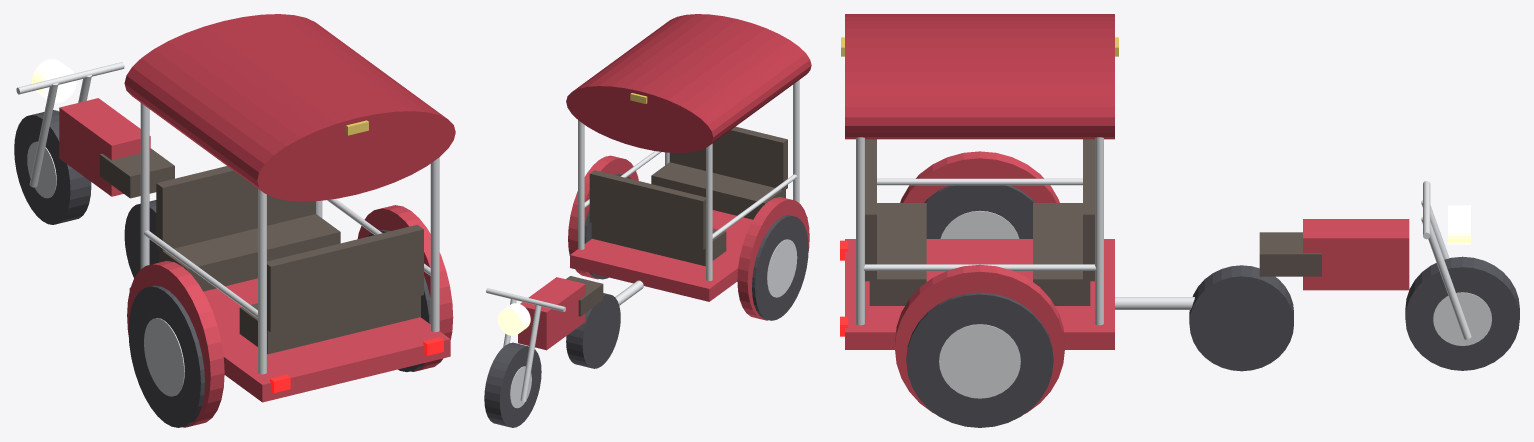
File: tuk-tuk.glb
The picture shows the model from 3 angles, left to right: view 1: azimuth 30°, elevation 25°; view 2: azimuth 150°, elevation 25°; view 3: azimuth 270°, elevation 25°; orthographic projection. The views are drawn at different scales.
Parts seen in each view (by area): view 1: Cylinder.015, Cube.006, Cube.002, Cube.004, LeftWheel, Cube.003, Cube, Cylinder.008, FrontWheel, Cube.005, Cylinder.010, Cylinder.007 (+12 smaller); view 2: Cylinder.015, Cube.002, Cube.004, Cube.006, Cube.005, LeftWheel, FrontWheel, Cube, Cylinder.005, Cylinder.008, Cube.003, Cylinder.010 (+10 smaller); view 3: Cylinder.015, RightWheel, Cube.002, Cylinder.005, FrontWheel, Cube, Cylinder.010, Cylinder.009, Cube.003, Cube.005, LeftWheel, Cylinder.008 (+12 smaller).
Boxes of the visible parts, x1=… form: Cylinder.015: x1=124, y1=14, x2=455, y2=201; Cube.006: x1=267, y1=224, x2=423, y2=332; Cube.002: x1=129, y1=278, x2=450, y2=402; Cube.004: x1=156, y1=166, x2=315, y2=252; LeftWheel: x1=128, y1=285, x2=204, y2=427; Cube.003: x1=159, y1=214, x2=340, y2=291; Cube: x1=59, y1=98, x2=150, y2=196; Cylinder.008: x1=127, y1=261, x2=224, y2=427; FrontWheel: x1=14, y1=110, x2=91, y2=224; Cube.005: x1=239, y1=296, x2=420, y2=354; Cylinder.010: x1=357, y1=205, x2=453, y2=371; Cylinder.007: x1=144, y1=318, x2=184, y2=396; Cylinder.015: x1=566, y1=14, x2=811, y2=152; Cube.002: x1=570, y1=210, x2=807, y2=301; Cube.004: x1=589, y1=170, x2=705, y2=249; Cube.006: x1=669, y1=126, x2=787, y2=189; Cube.005: x1=651, y1=162, x2=785, y2=219; LeftWheel: x1=752, y1=215, x2=808, y2=320; FrontWheel: x1=484, y1=342, x2=541, y2=427; Cube: x1=518, y1=277, x2=585, y2=350; Cylinder.005: x1=566, y1=293, x2=620, y2=368; Cylinder.008: x1=737, y1=197, x2=809, y2=320; Cube.003: x1=591, y1=223, x2=726, y2=266; Cylinder.010: x1=568, y1=155, x2=638, y2=279; Cylinder.015: x1=845, y1=14, x2=1114, y2=139; RightWheel: x1=906, y1=292, x2=1053, y2=427; Cube.002: x1=845, y1=239, x2=1114, y2=349; Cylinder.005: x1=1189, y1=265, x2=1293, y2=371; FrontWheel: x1=1405, y1=256, x2=1519, y2=370; Cube: x1=1303, y1=219, x2=1409, y2=290; Cylinder.010: x1=895, y1=264, x2=1064, y2=413; Cylinder.009: x1=939, y1=324, x2=1020, y2=398; Cube.003: x1=1033, y1=203, x2=1090, y2=305; Cube.005: x1=869, y1=203, x2=926, y2=305; LeftWheel: x1=924, y1=185, x2=1035, y2=238; Cylinder.008: x1=900, y1=151, x2=1059, y2=202.
Size of the model in its own units: 1.81 by 2.21 by 4.16.
